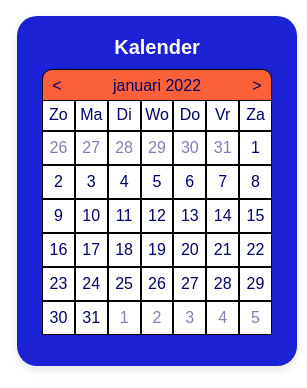
MiniKalender component › should go back from January to December of the previous year
Click the button "<": (57, 86) left=52, top=77, right=62, bottom=94
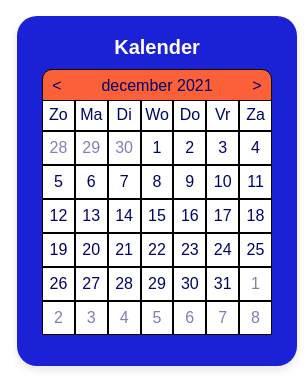
Result: the text "december 2021" is shown at left=101, top=77, right=213, bottom=94
